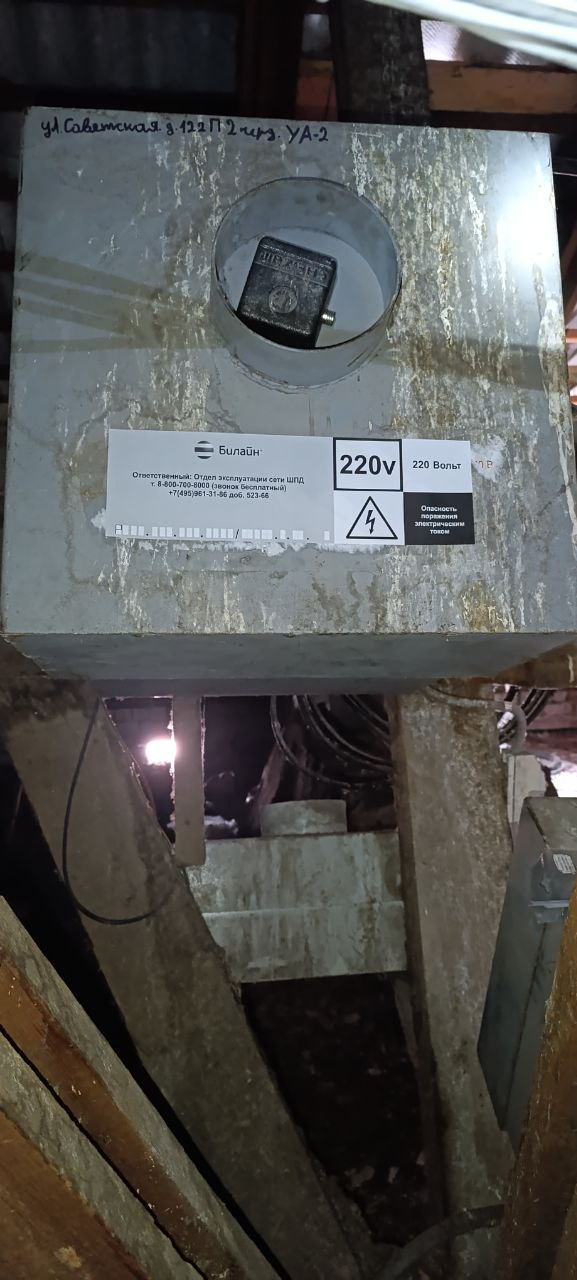shta-9: (1, 100, 573, 686)
